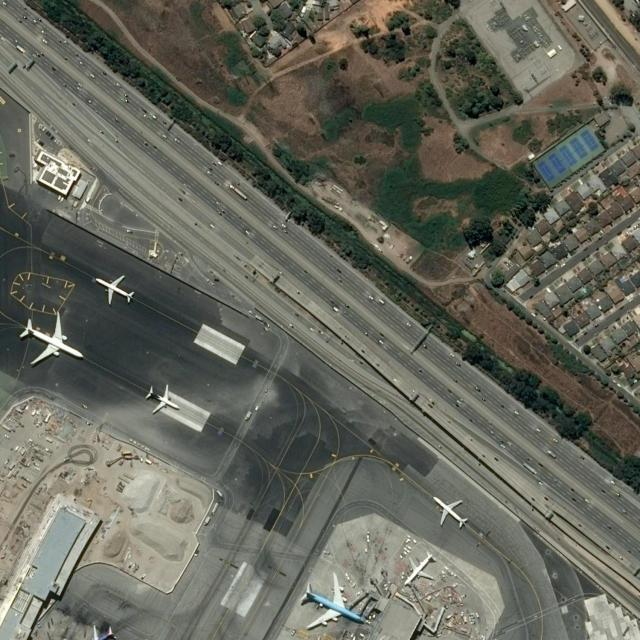Aircraft: (300, 573, 369, 631), (21, 313, 85, 367), (433, 496, 470, 530), (97, 274, 135, 306), (405, 552, 436, 589), (146, 385, 180, 415), (85, 624, 119, 640)
